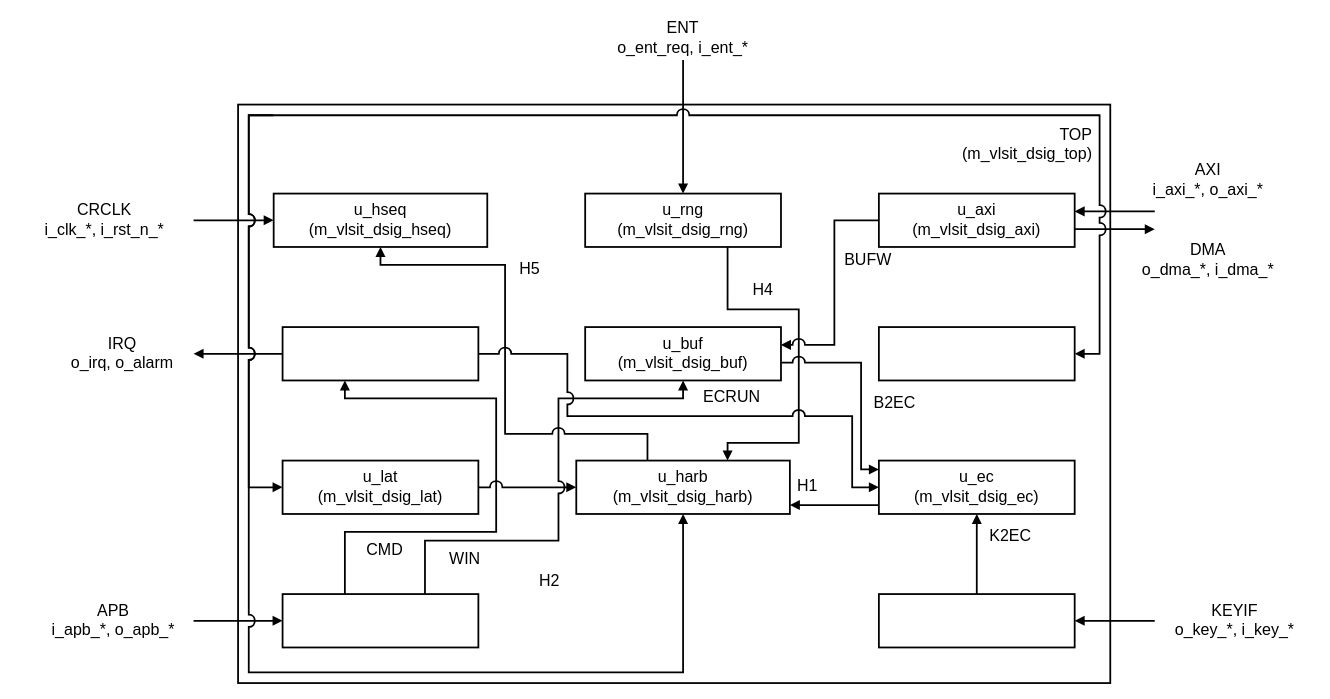
The diagram is 1330 pixels wide and 699 high, and some of its shapes have lost their labels. Each missing label, with the centre of its shape:
u_csr (m_vlsit_csr_dsig): the point at 380,620
u_ctl (m_vlsit_dsig_ctl): the point at 380,353
u_hbs (m_vlsit_dsig_hbs): the point at 976,353
u_key (m_vlsit_dsig_key): the point at 976,620
